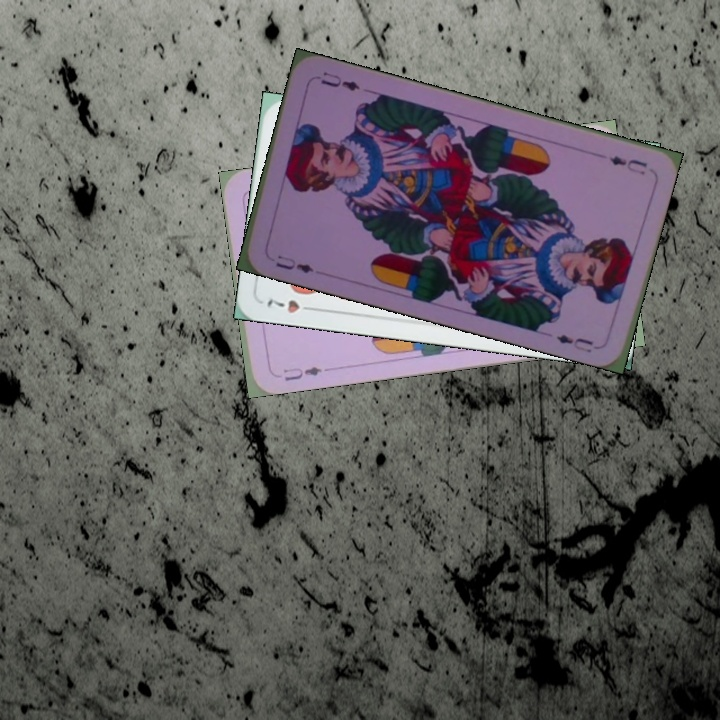EU: (605, 151, 650, 177), (271, 251, 316, 276), (279, 363, 325, 384)
H7: (262, 294, 320, 316)
